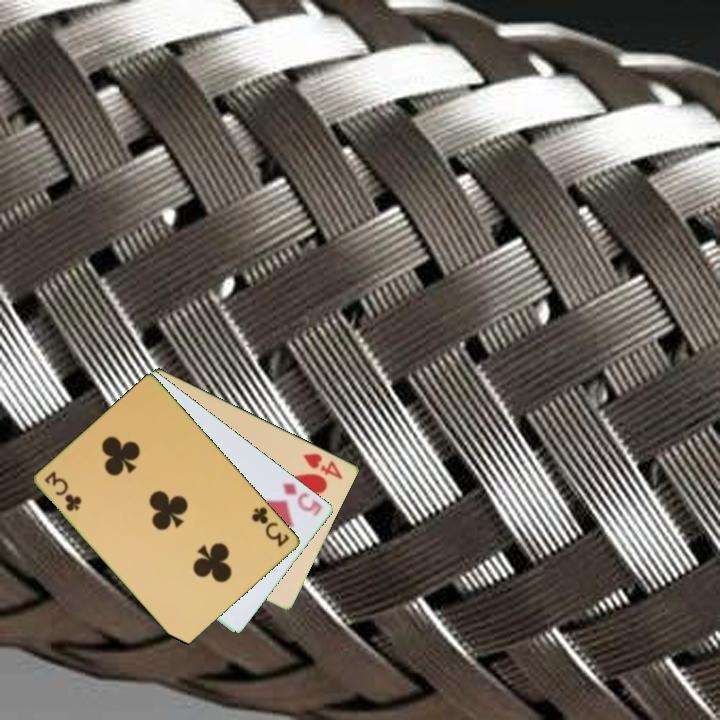3c: (248, 503, 293, 550), (41, 467, 85, 514)
4h: (300, 449, 347, 482)
5d: (279, 479, 326, 519)
